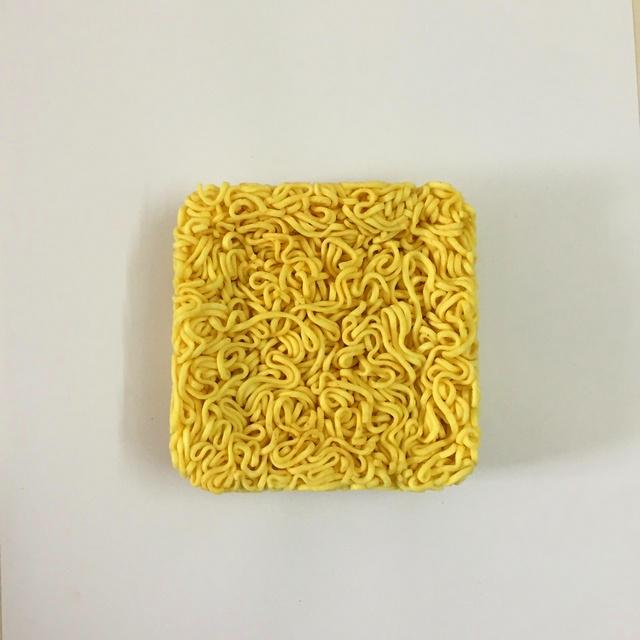noodles: (159, 167, 491, 500)
